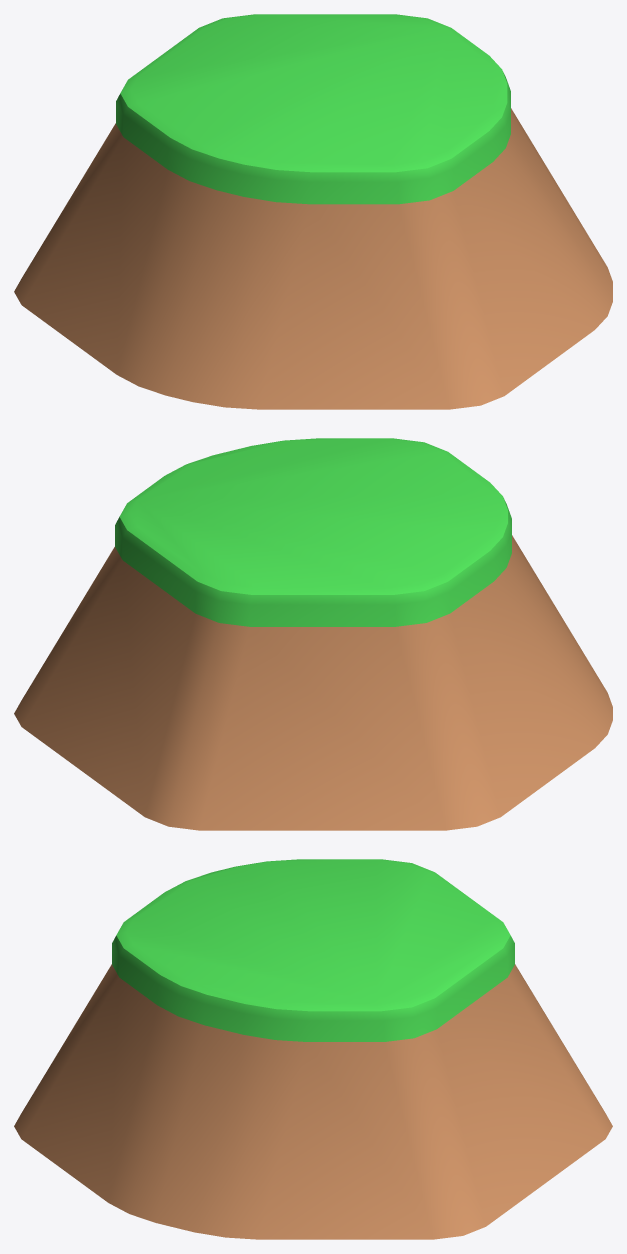
The model's file is HillRock003.fbx.
3 views of the same model, one above another, from view 1: azimuth 30°, elevation 25°; view 2: azimuth 150°, elevation 25°; view 3: azimuth 270°, elevation 25° (orthographic). The views are drawn at different scales.
Visible parts, largest first — view 1: HillRock003; view 2: HillRock003; view 3: HillRock003.
Part boxes in pixels (<box>): HillRock003: <box>14,14,612,409</box>; HillRock003: <box>14,438,612,830</box>; HillRock003: <box>14,859,612,1239</box>.
Bounding box in the file's own units: 791 × 316 × 883.
